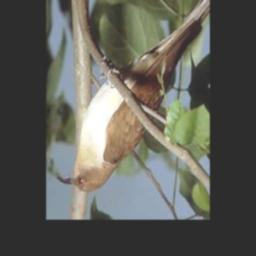Cuckoo: (56, 0, 209, 195)
